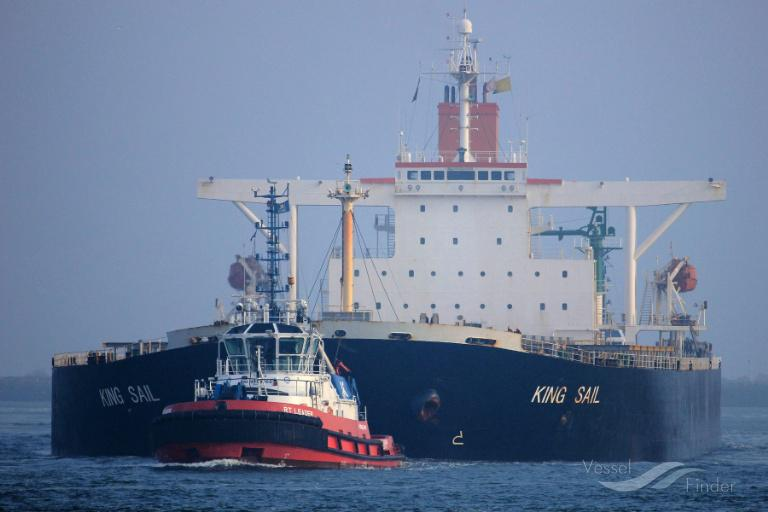OCR: (526, 378, 608, 412), (94, 380, 160, 410)
